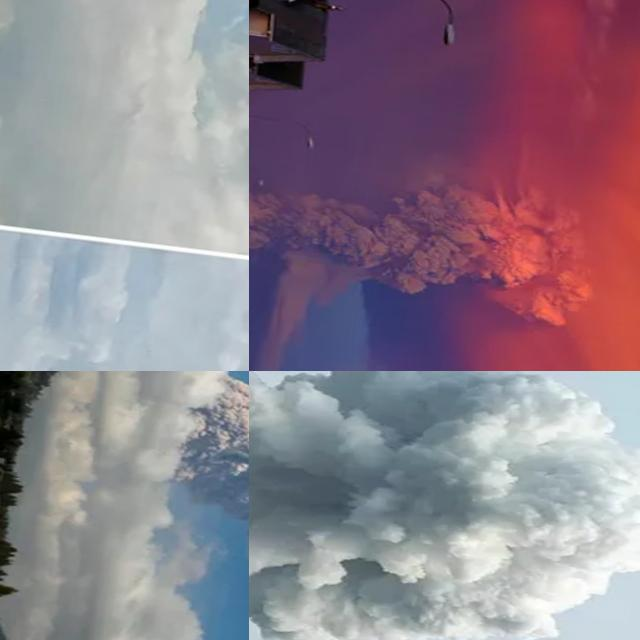smoke: (249, 371, 640, 640), (249, 144, 604, 319), (173, 371, 249, 623)
